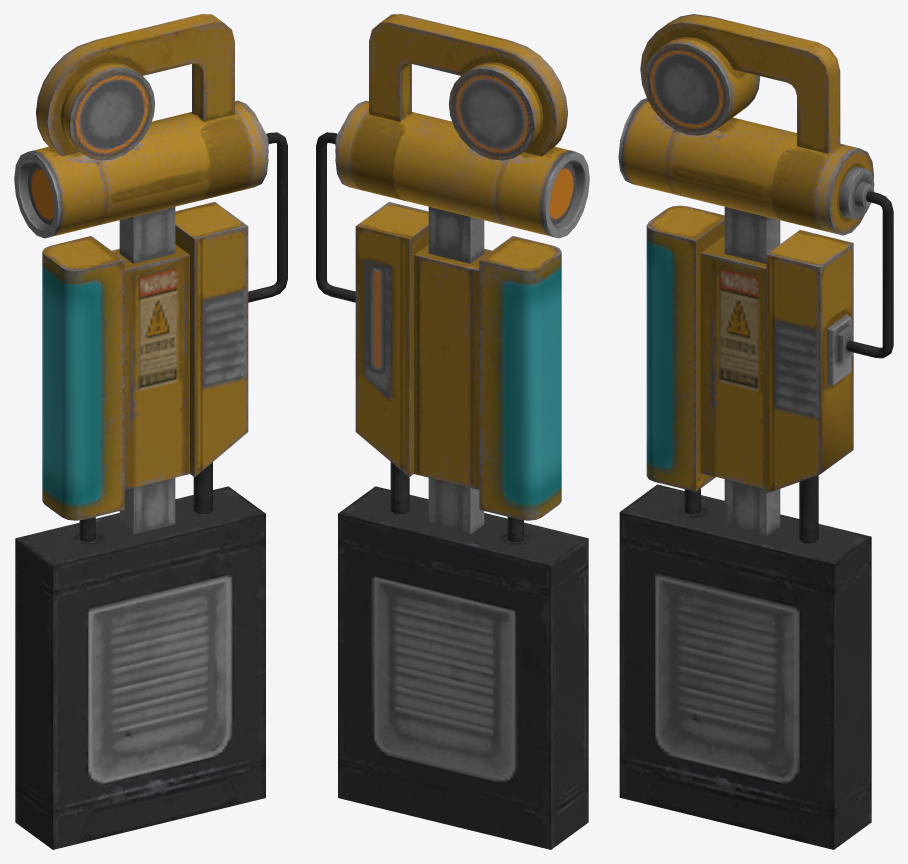
The model's file is CP_Energy_Dispenser_01.fbx.
3 views of the same model, side by side, from view 1: azimuth 30°, elevation 25°; view 2: azimuth 150°, elevation 25°; view 3: azimuth 330°, elevation 25° (orthographic).
Visible parts, largest first — view 1: CP_Energy_Dispenser_01_LOD0; view 2: CP_Energy_Dispenser_01_LOD0; view 3: CP_Energy_Dispenser_01_LOD0.
Boxes of the visible parts, x1,y1,x2,y2 form: CP_Energy_Dispenser_01_LOD0: (14,14,287,849); CP_Energy_Dispenser_01_LOD0: (316,14,589,849); CP_Energy_Dispenser_01_LOD0: (618,14,893,849).
Size of what is drawn, in the model's own units: 48.81 by 143 by 14.85.
